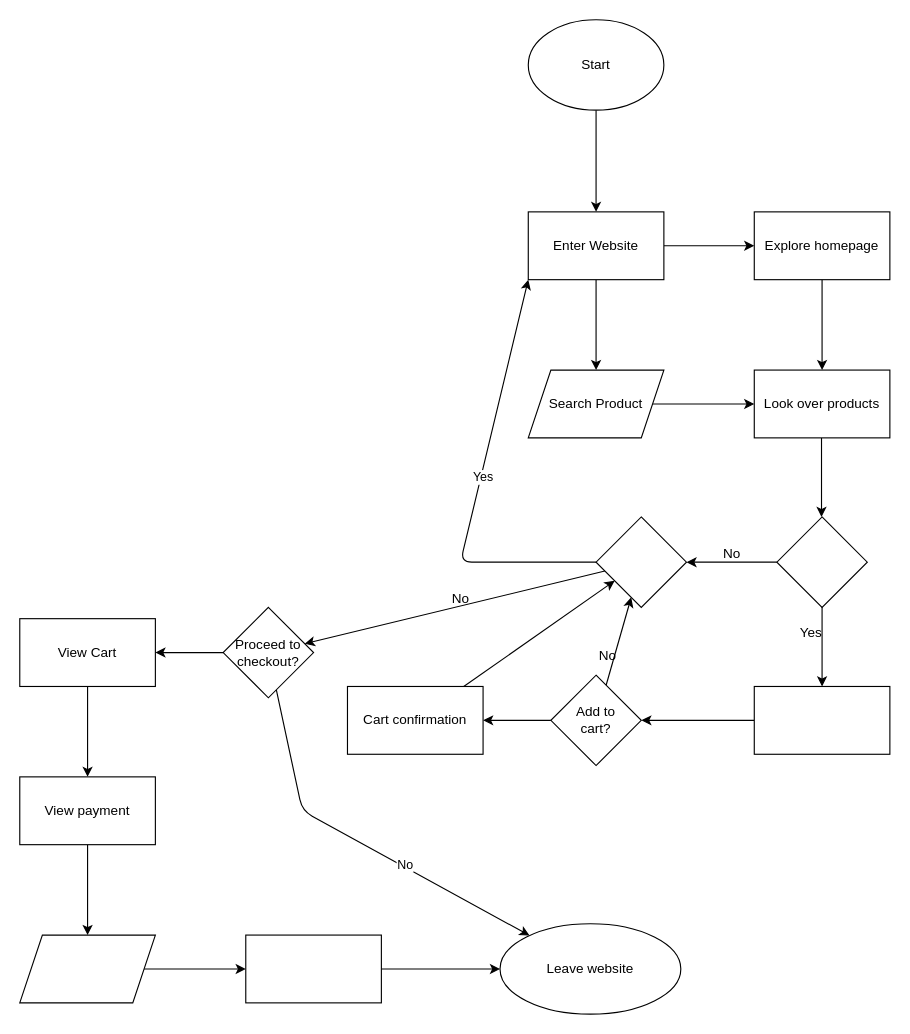
Some shapes in this 910 by 1034 pixel diagram are drawn without their labels. Each missing label, with the centre of its shape:
"Continue shopping?" belongs at point 640,561.
"Order confirmation and email" belongs at point 313,968.
"Payment information" belongs at point 87,968.
"Product Page opens" belongs at point 821,719.
"View product?" belongs at point 821,561.
